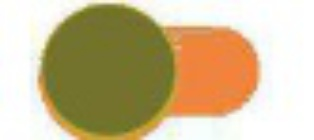Switch: (1, 1, 313, 139)
